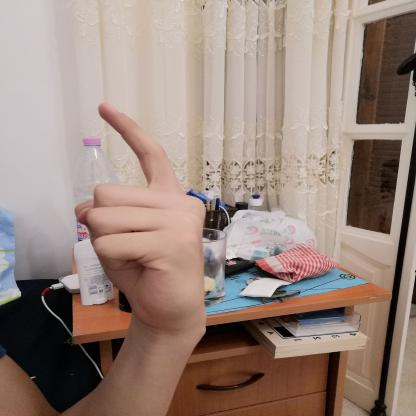RAA: (62, 94, 227, 337)
